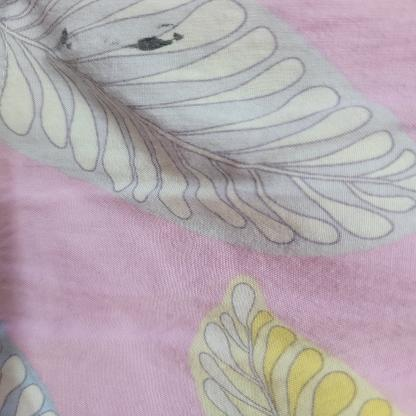spot: (122, 18, 196, 58), (54, 25, 74, 52)
